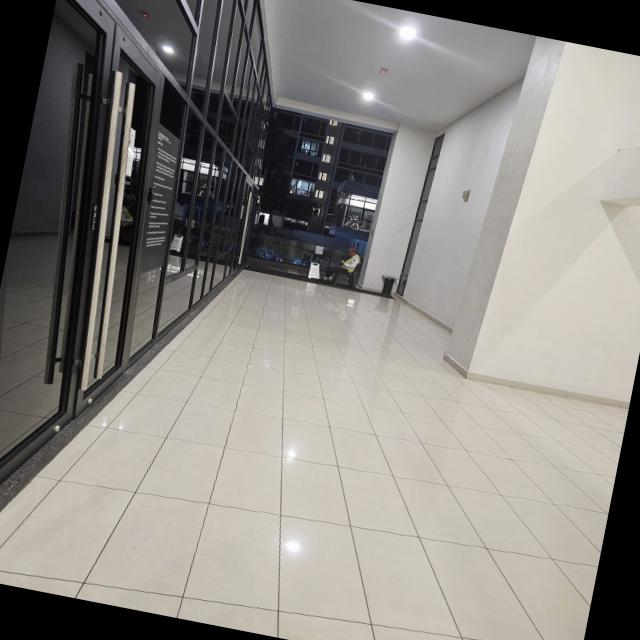footpath: (86, 303, 631, 640), (228, 266, 442, 358)
obstacle: (376, 272, 400, 299), (304, 260, 325, 284)
person: (327, 240, 368, 287)
